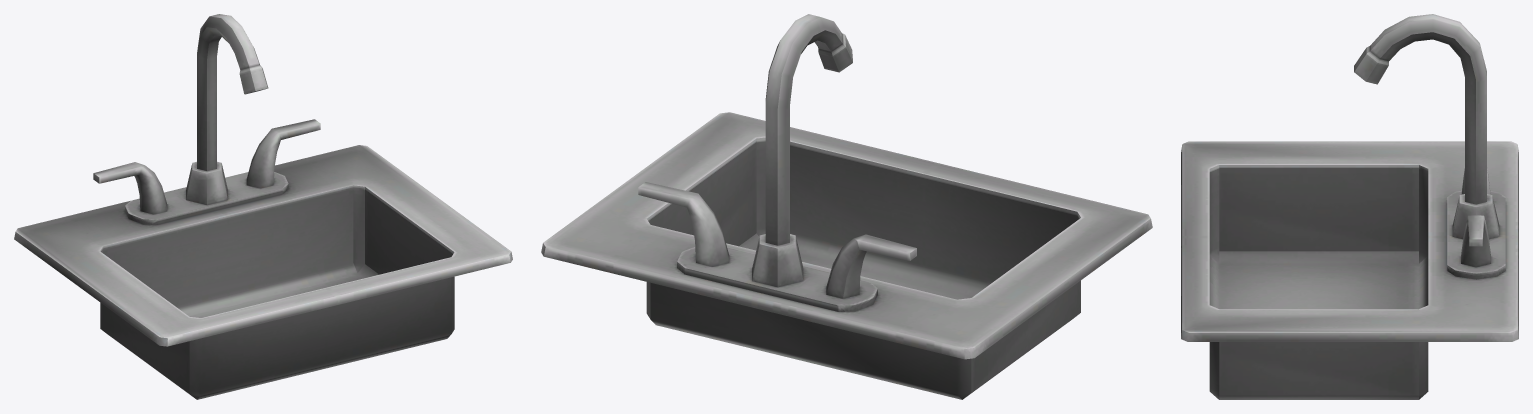
The model's file is fregadero.fbx.
3 views of the same model, side by side, from view 1: azimuth 30°, elevation 25°; view 2: azimuth 150°, elevation 25°; view 3: azimuth 270°, elevation 25° (orthographic). The views are drawn at different scales.
Visible parts, largest first — view 1: s4studio_mesh_1; view 2: s4studio_mesh_1; view 3: s4studio_mesh_1.
Boxes of the visible parts, x1,y1,x2,y2 form: s4studio_mesh_1: [14, 14, 512, 399]; s4studio_mesh_1: [541, 14, 1152, 399]; s4studio_mesh_1: [1181, 14, 1518, 399].
Size of the model in its own units: 74.84 by 57.12 by 55.47.
Materials: 1 (1 with a texture image).
